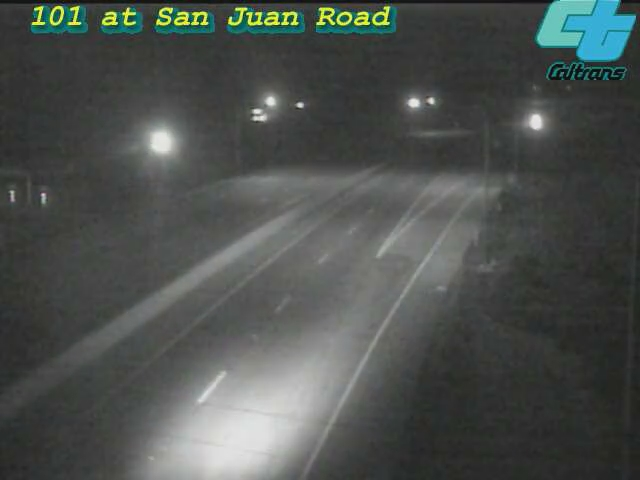vehicle: (510, 97, 560, 147)
